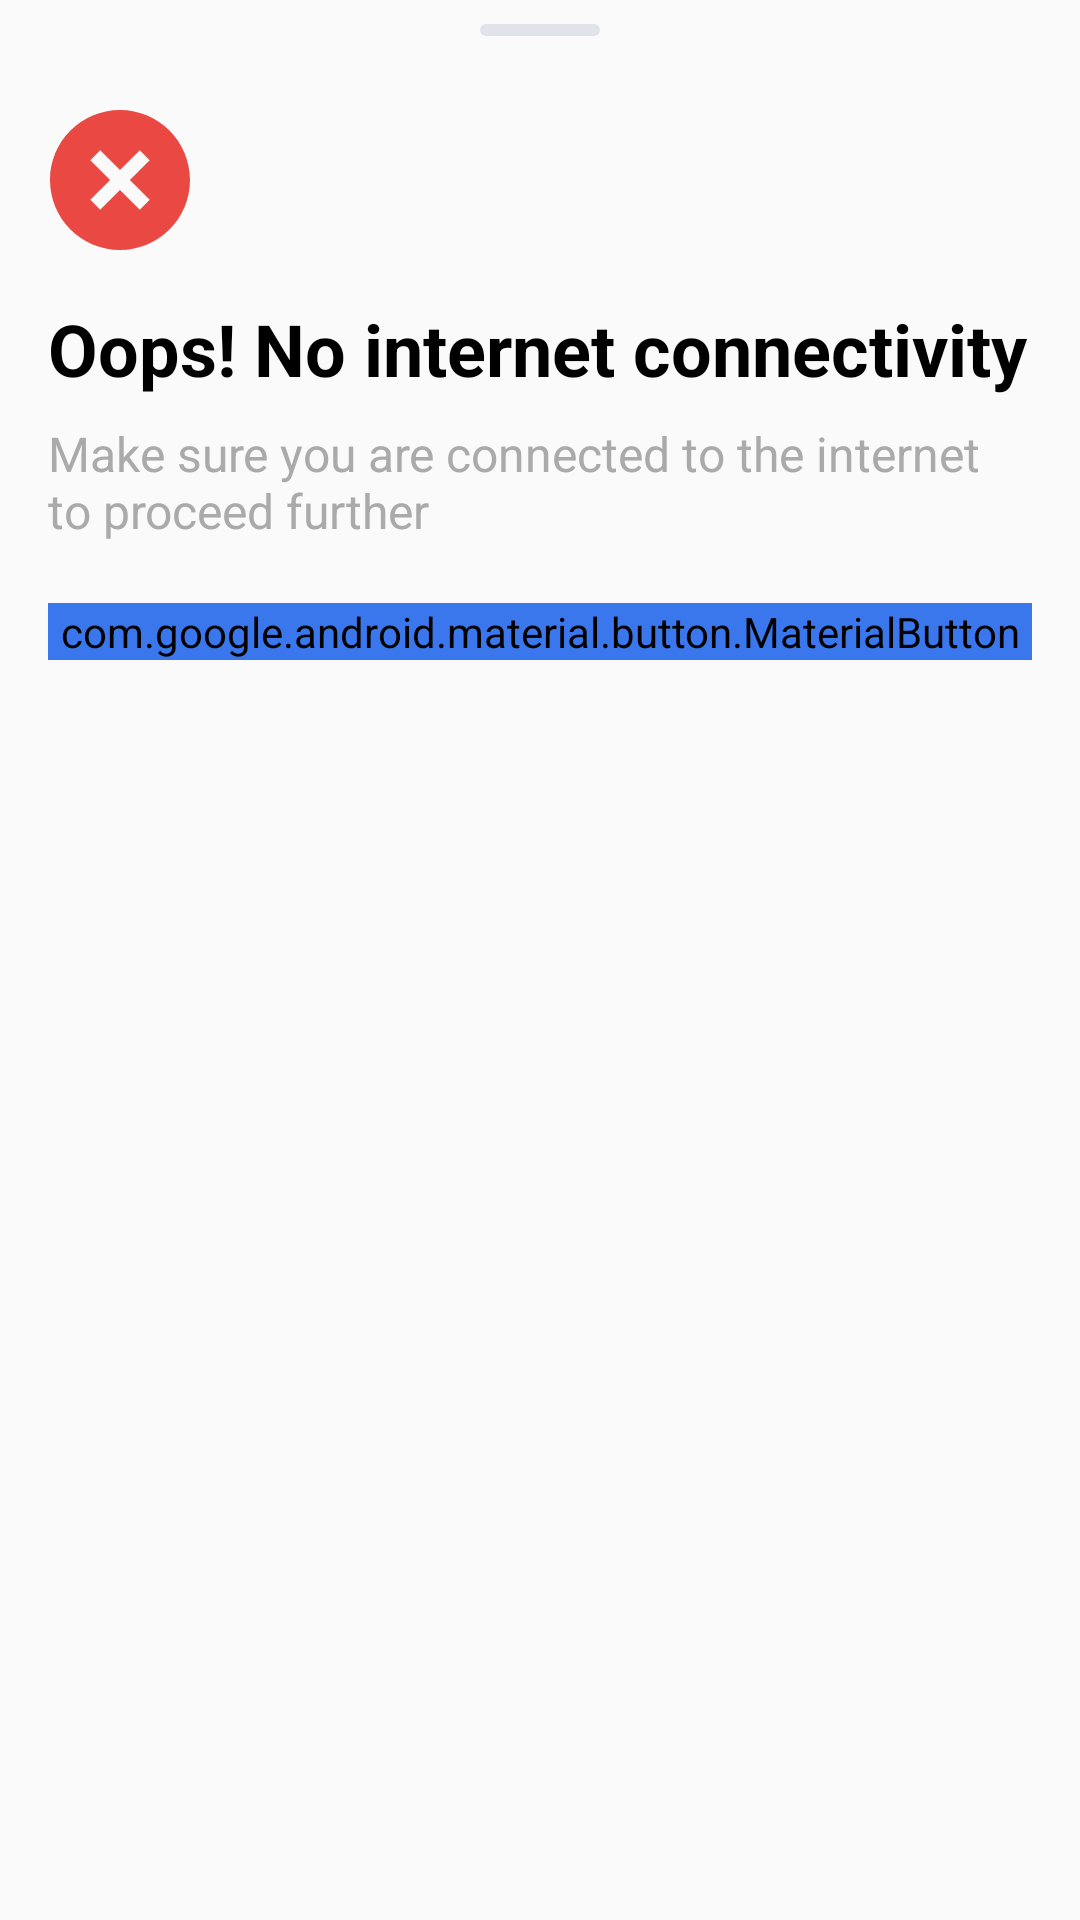

Icons on this 1080w x 1920h Android screen, each with its box as box(x1, y1, x2, y2):
error: box(50, 110, 190, 250)
